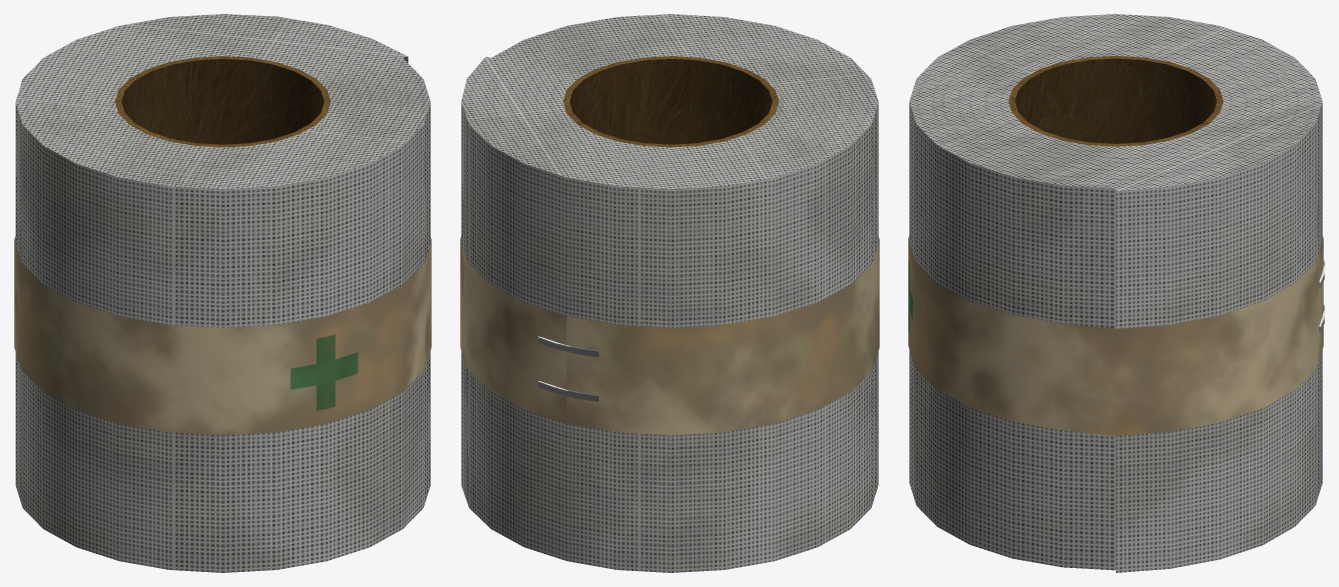
The model's file is Bandage.fbx.
3 views of the same model, side by side, from view 1: azimuth 30°, elevation 25°; view 2: azimuth 150°, elevation 25°; view 3: azimuth 270°, elevation 25° (orthographic).
Visible parts, largest first — view 1: bandage; view 2: bandage; view 3: bandage.
Boxes of the visible parts, x1,y1,x2,y2 form: bandage: [14, 14, 431, 572]; bandage: [460, 14, 879, 572]; bandage: [908, 14, 1324, 572].
Bounding box in the file's own units: 0.1001 × 0.1 × 0.0989.
1 material, 1 textured.
